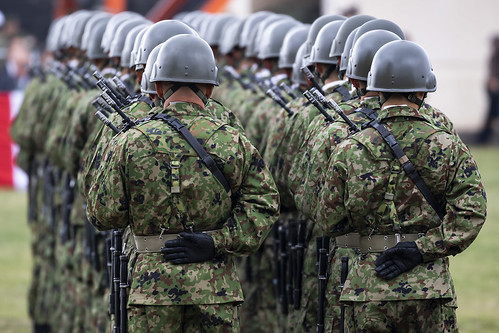soldier: (84, 37, 281, 333), (307, 41, 486, 333)
